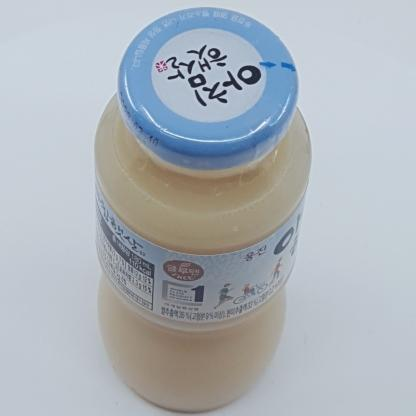------180ML: (94, 7, 312, 412)
